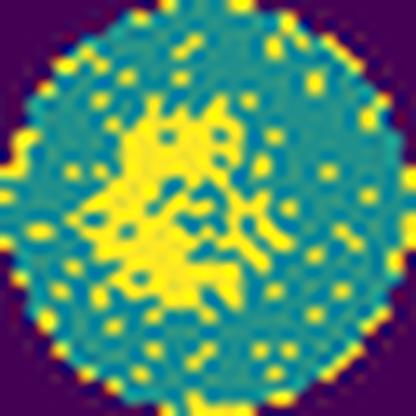Donut: (71, 83, 309, 324)
